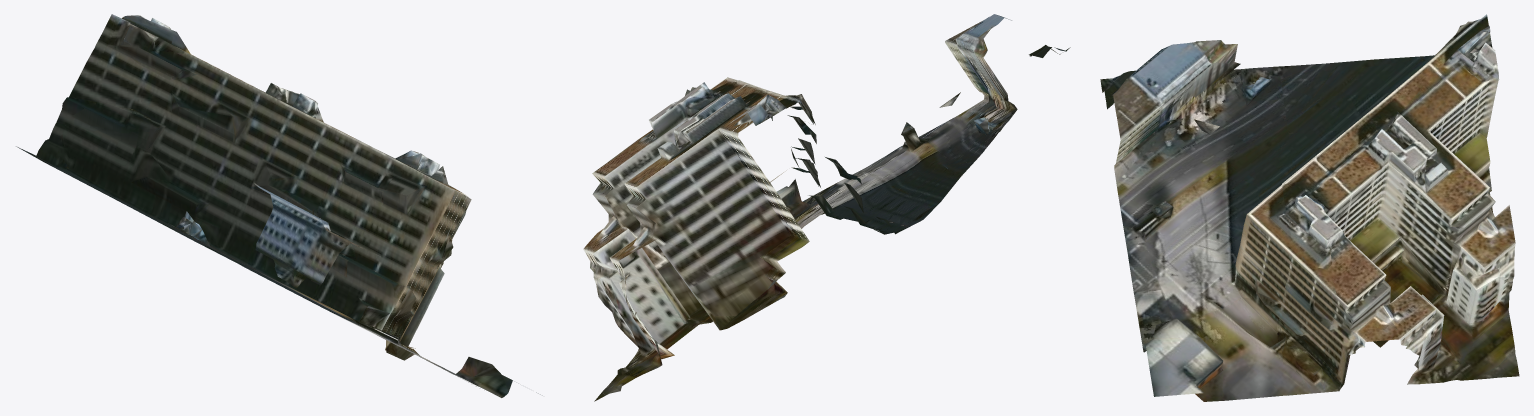
Rendered from surface_source.glb.
The picture shows the model from 3 angles, left to right: view 1: azimuth 30°, elevation 25°; view 2: azimuth 150°, elevation 25°; view 3: azimuth 270°, elevation 25°; orthographic projection. The views are drawn at different scales.
Parts seen in each view (by area): view 1: 18-138367-84716.0; view 2: 18-138367-84716.0; view 3: 18-138367-84716.0.
Part boxes in pixels (box(x1,y1,x2,y2)): 18-138367-84716.0: box(16, 14, 542, 397); 18-138367-84716.0: box(583, 14, 1070, 401); 18-138367-84716.0: box(1100, 14, 1519, 401).
Size of the model in its own units: 98.24 by 78.84 by 104.
Materials: 1 (1 with a texture image).
